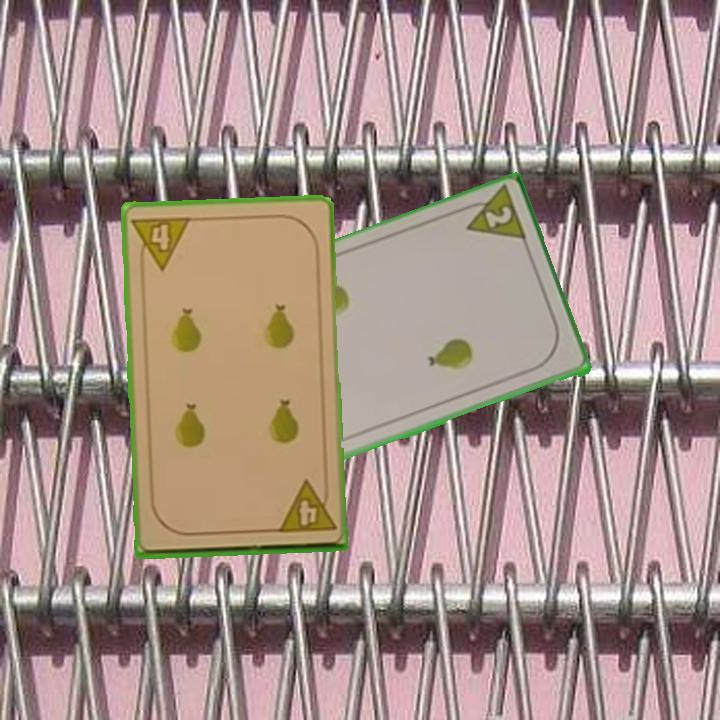2p: (454, 185, 530, 248)
4p: (129, 212, 194, 274), (273, 477, 338, 536)
